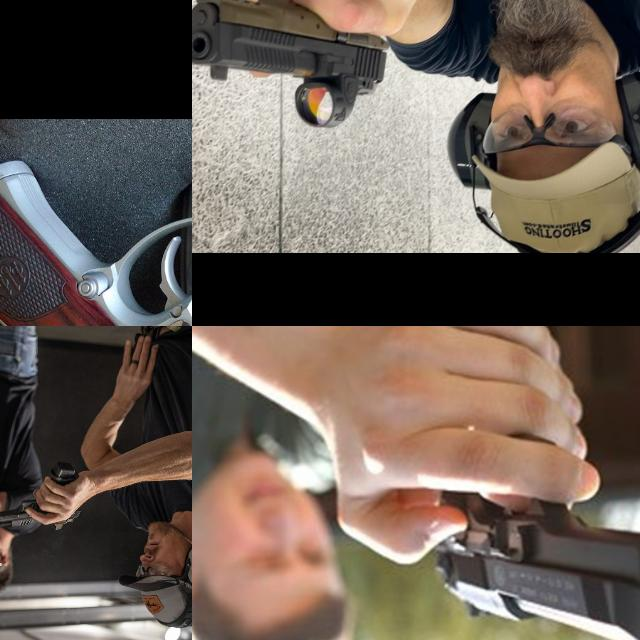handgun: (0, 155, 192, 326), (429, 485, 640, 640), (192, 0, 391, 131), (0, 498, 82, 534), (0, 536, 29, 567)
